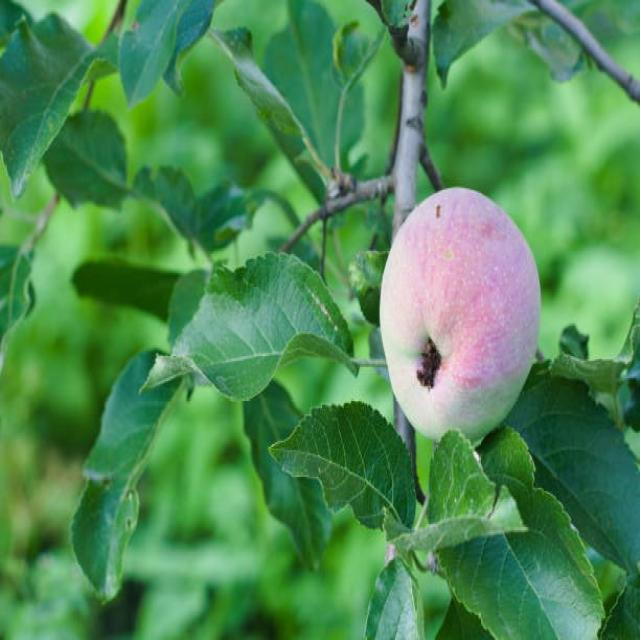Unripe: (379, 187, 542, 440)
